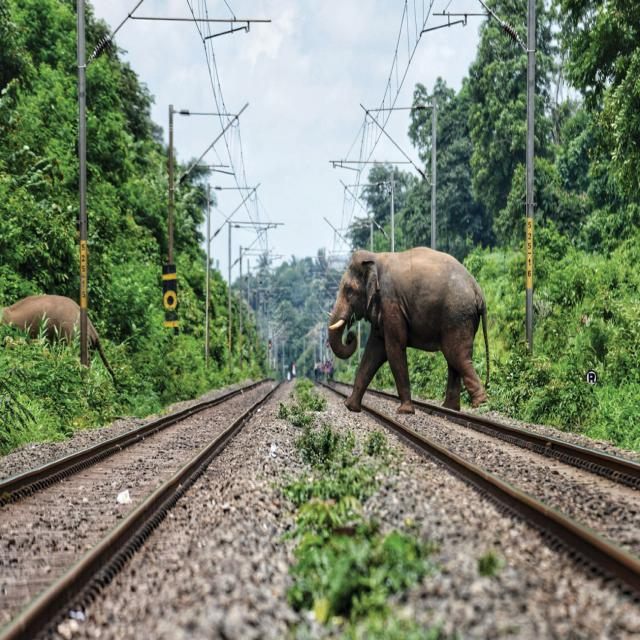Elephant: (324, 237, 509, 419), (10, 270, 146, 415)
